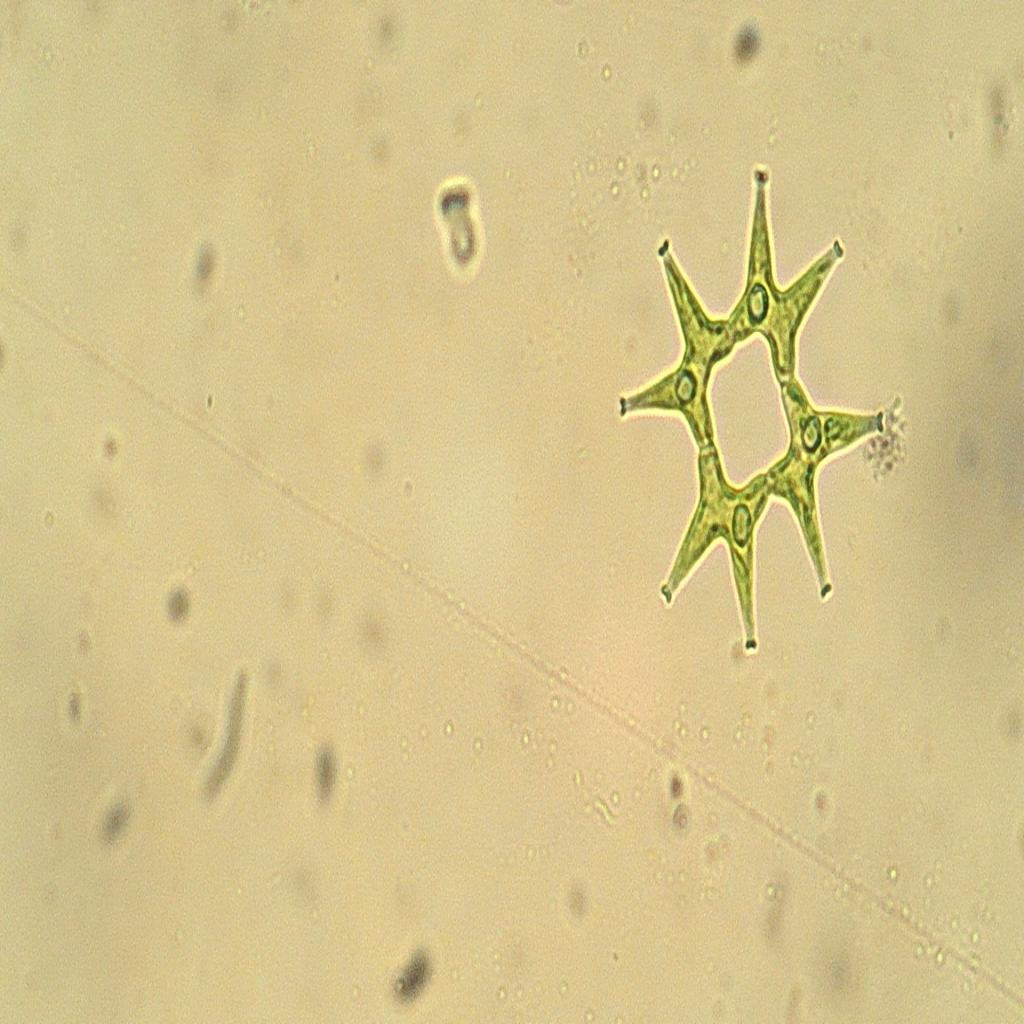Pediastrum_75O: (603, 134, 890, 680)
